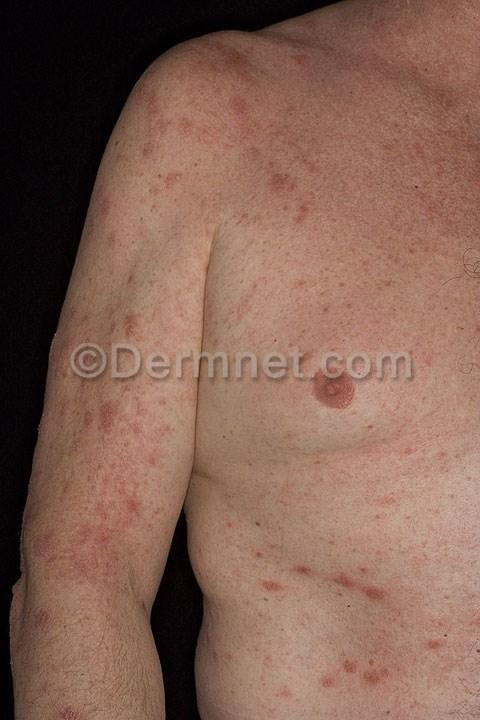Eczema: (219, 493, 453, 709), (195, 36, 392, 239), (55, 383, 185, 534), (71, 242, 197, 329), (31, 533, 131, 641), (132, 83, 194, 219)
